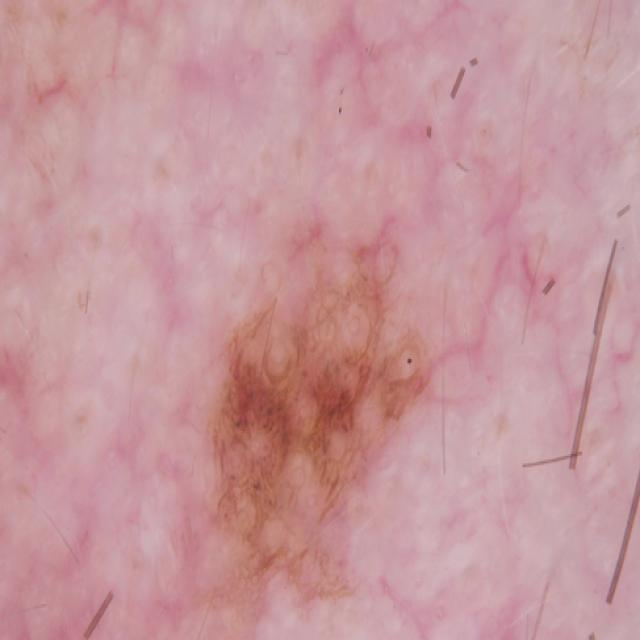Keratosis: (210, 250, 471, 617)
